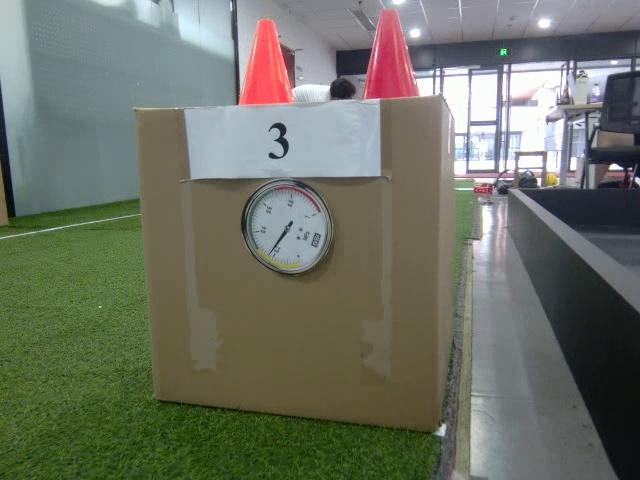3: (266, 121, 290, 162)
Dashboard: (242, 183, 336, 278)
orange_barrel: (237, 17, 291, 105)
red_barrel: (362, 8, 421, 100)
ssi: (312, 231, 322, 248)
